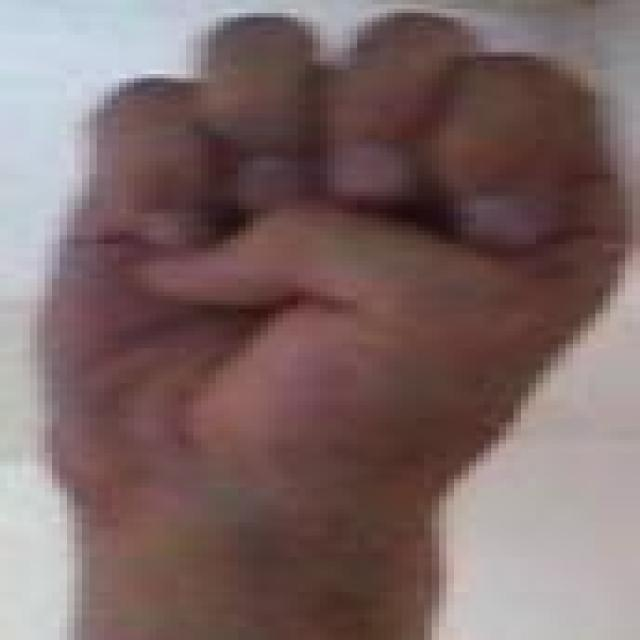E: (0, 5, 640, 489)
